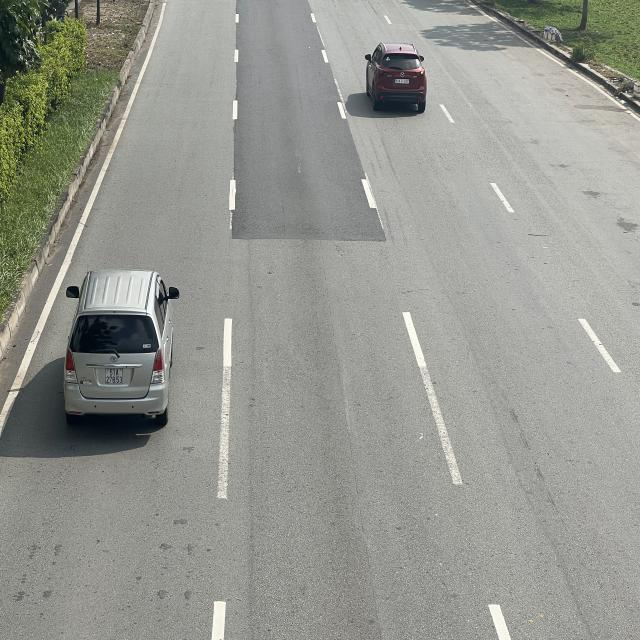car: (64, 269, 180, 425), (367, 42, 429, 112)
